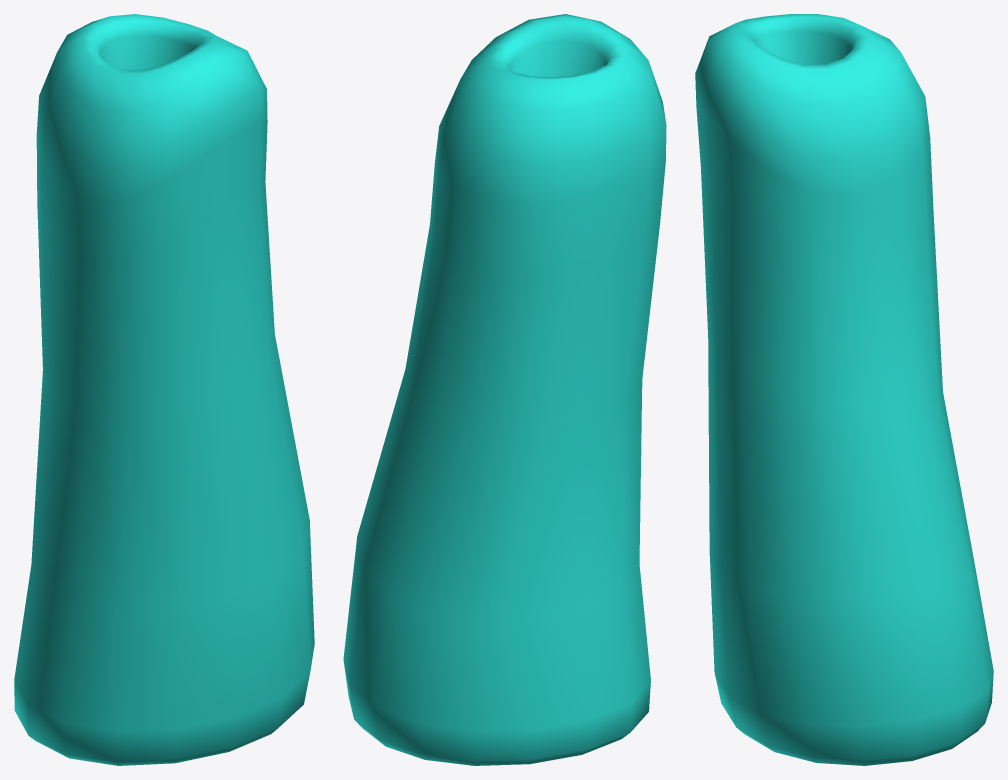
The picture shows the model from 3 angles, left to right: view 1: azimuth 30°, elevation 25°; view 2: azimuth 150°, elevation 25°; view 3: azimuth 270°, elevation 25°; orthographic projection. The views are drawn at different scales.
Parts seen in each view (by area): view 1: Tube_04_low; view 2: Tube_04_low; view 3: Tube_04_low.
Boxes of the visible parts, x1=… form: Tube_04_low: x1=14, y1=14, x2=314, y2=765; Tube_04_low: x1=343, y1=14, x2=666, y2=765; Tube_04_low: x1=695, y1=14, x2=993, y2=765.
Bounding box in the file's own units: 13.6 × 32.86 × 13.39.
